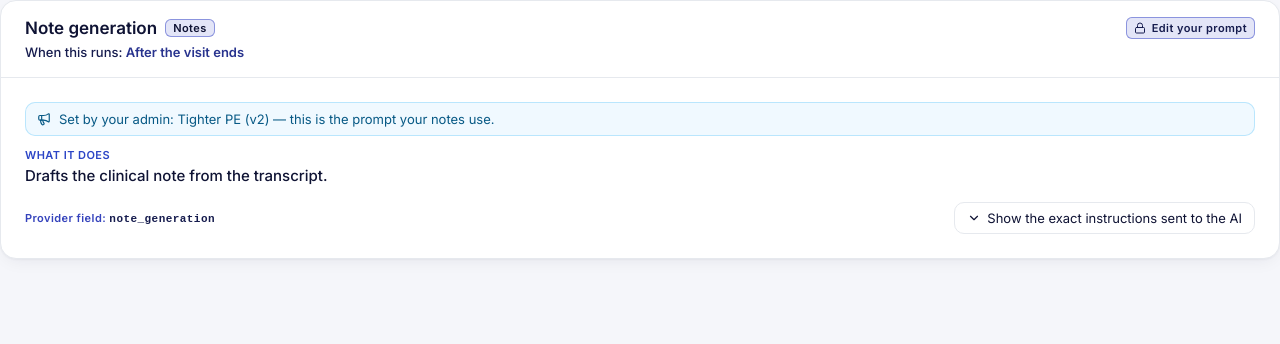
it: PromptCard — admin publication source label › shows 'set by your admin' and the published text when a publication is active
Expected: the element with test id "prompt-card-note_generation-publication" shows "Tighter PE", [59,111,494,127]
Expected: the element with test id "prompt-card-note_generation-publication" shows "your notes use", [59,111,494,127]
The active prompt shown IS the published text, not the registry default.
Click the button with test id "prompt-card-note_generation-toggle": x=1105, y=218 [954,202,1255,234]
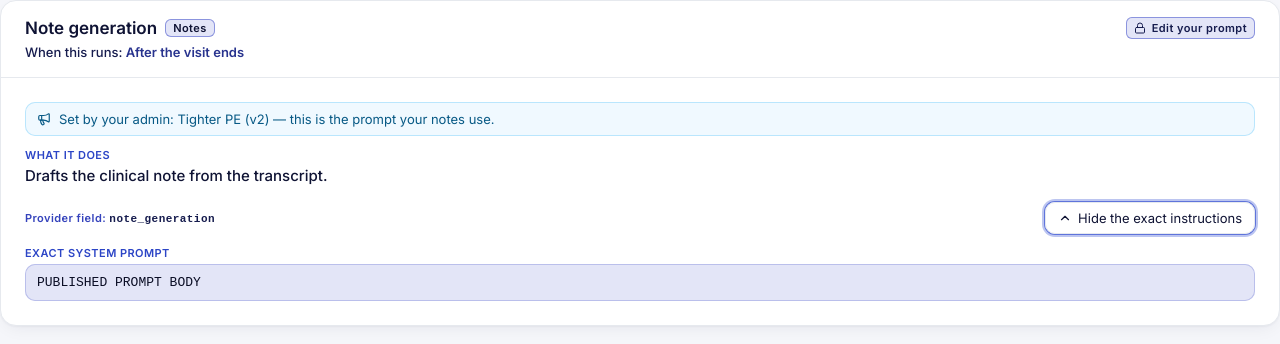
Expected: the text with test id "prompt-card-note_generation-pre" reads "PUBLISHED PROMPT BODY", [37,275,201,290]
